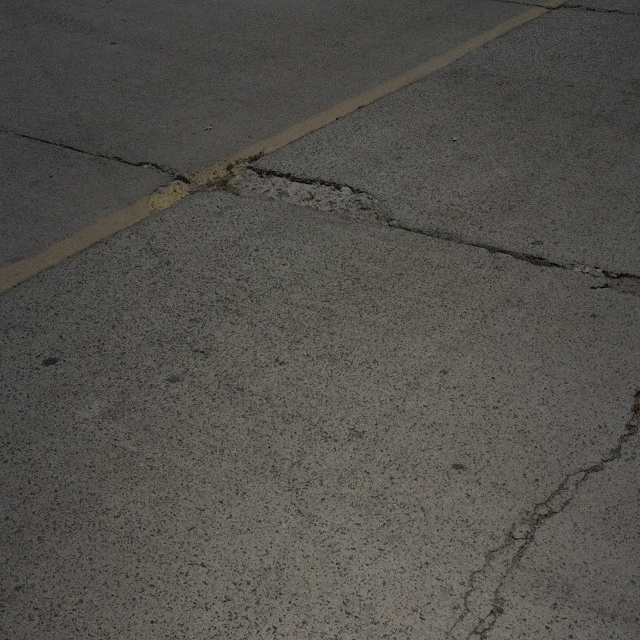pothole: (220, 160, 392, 231)
